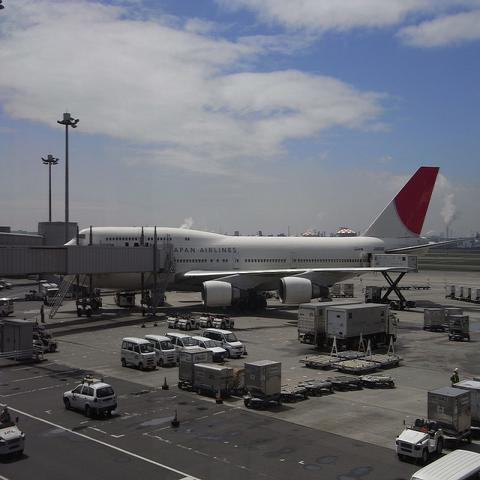car: (394, 416, 447, 467), (63, 374, 118, 418), (164, 332, 206, 362), (143, 333, 177, 367), (120, 338, 156, 370), (1, 407, 24, 457), (192, 336, 227, 362)
truck: (297, 298, 364, 348), (326, 302, 400, 347), (395, 415, 447, 461), (244, 358, 284, 408), (119, 336, 156, 373), (203, 327, 245, 357), (366, 285, 418, 309), (0, 419, 27, 460), (42, 282, 61, 304), (213, 316, 235, 330), (178, 317, 200, 330), (167, 312, 182, 329)
